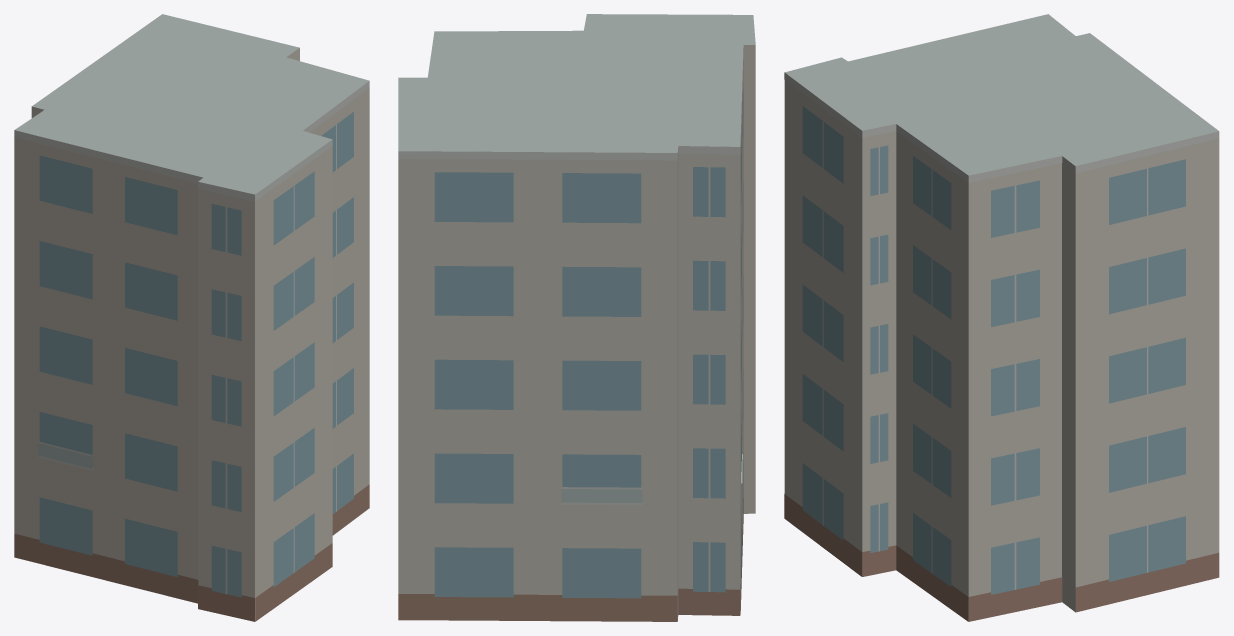
File: survey-upis-32910249.glb
3 views of the same model, side by side, from view 1: azimuth 30°, elevation 25°; view 2: azimuth 150°, elevation 25°; view 3: azimuth 270°, elevation 25° (orthographic). The views are drawn at different scales.
Visible parts, largest first — view 1: survey-upis-32910249.tmp; view 2: survey-upis-32910249.tmp; view 3: survey-upis-32910249.tmp.
Boxes of the visible parts, x1=… form: survey-upis-32910249.tmp: x1=14, y1=14, x2=369, y2=621; survey-upis-32910249.tmp: x1=398, y1=14, x2=755, y2=621; survey-upis-32910249.tmp: x1=784, y1=14, x2=1219, y2=621.
Bounding box in the file's own units: 11.74 × 15.1 × 13.34.
